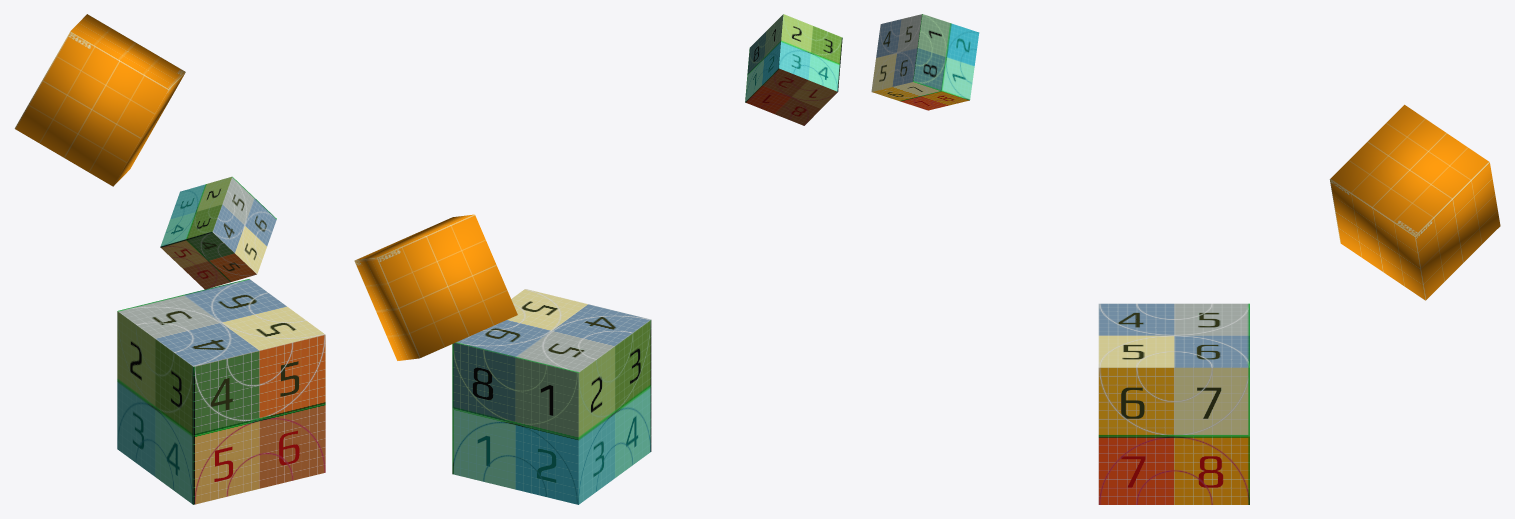
3 views of the same model, side by side, from view 1: azimuth 30°, elevation 25°; view 2: azimuth 150°, elevation 25°; view 3: azimuth 270°, elevation 25° (orthographic). The views are drawn at different scales.
Parts seen in each view (by area): view 1: Cube.001, Cube.002, Cube.003; view 2: Cube.001, Cube.002, Cube.003; view 3: Cube.001, Cube.002, Cube.003.
Boxes of the visible parts, <box> form: Cube.001: <box>117,279,325,504</box>; Cube.002: <box>14,14,185,186</box>; Cube.003: <box>160,176,276,289</box>; Cube.001: <box>452,289,651,504</box>; Cube.002: <box>354,214,517,360</box>; Cube.003: <box>745,14,842,125</box>; Cube.001: <box>1098,303,1249,504</box>; Cube.002: <box>1329,104,1500,300</box>; Cube.003: <box>871,14,979,110</box>.
Size of the model in its own units: 403 by 587 by 830.
Materials: 2 (2 with a texture image).
